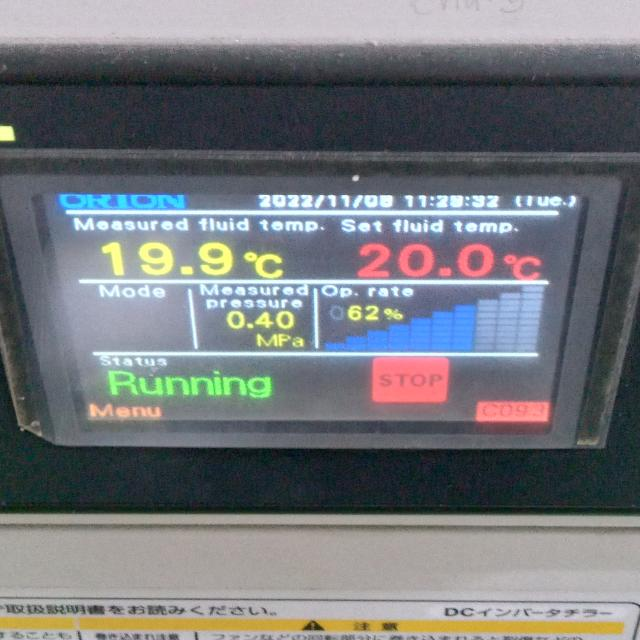display: (41, 189, 594, 436)
frame: (94, 232, 240, 281), (347, 239, 502, 284), (254, 194, 397, 210), (218, 306, 300, 333), (402, 194, 507, 210), (328, 300, 382, 326), (500, 402, 549, 421)
gauge: (0, 43, 640, 515)
